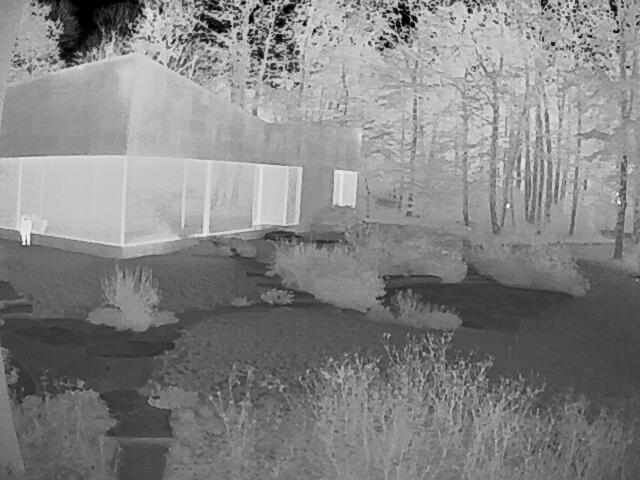person: (17, 214, 31, 246)
